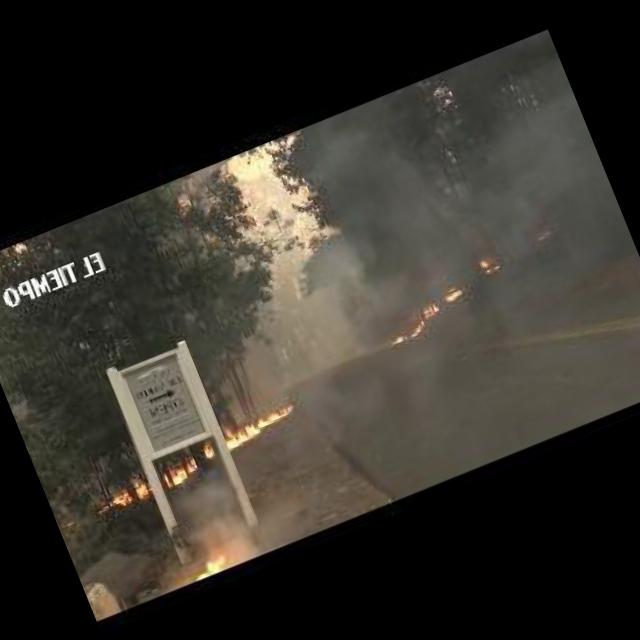fire: (219, 398, 298, 451), (162, 455, 200, 486), (192, 554, 228, 580), (95, 490, 128, 512), (407, 320, 429, 337), (134, 479, 150, 501), (444, 288, 464, 304), (422, 302, 439, 317), (204, 440, 216, 455), (393, 332, 407, 343), (481, 258, 489, 266)
